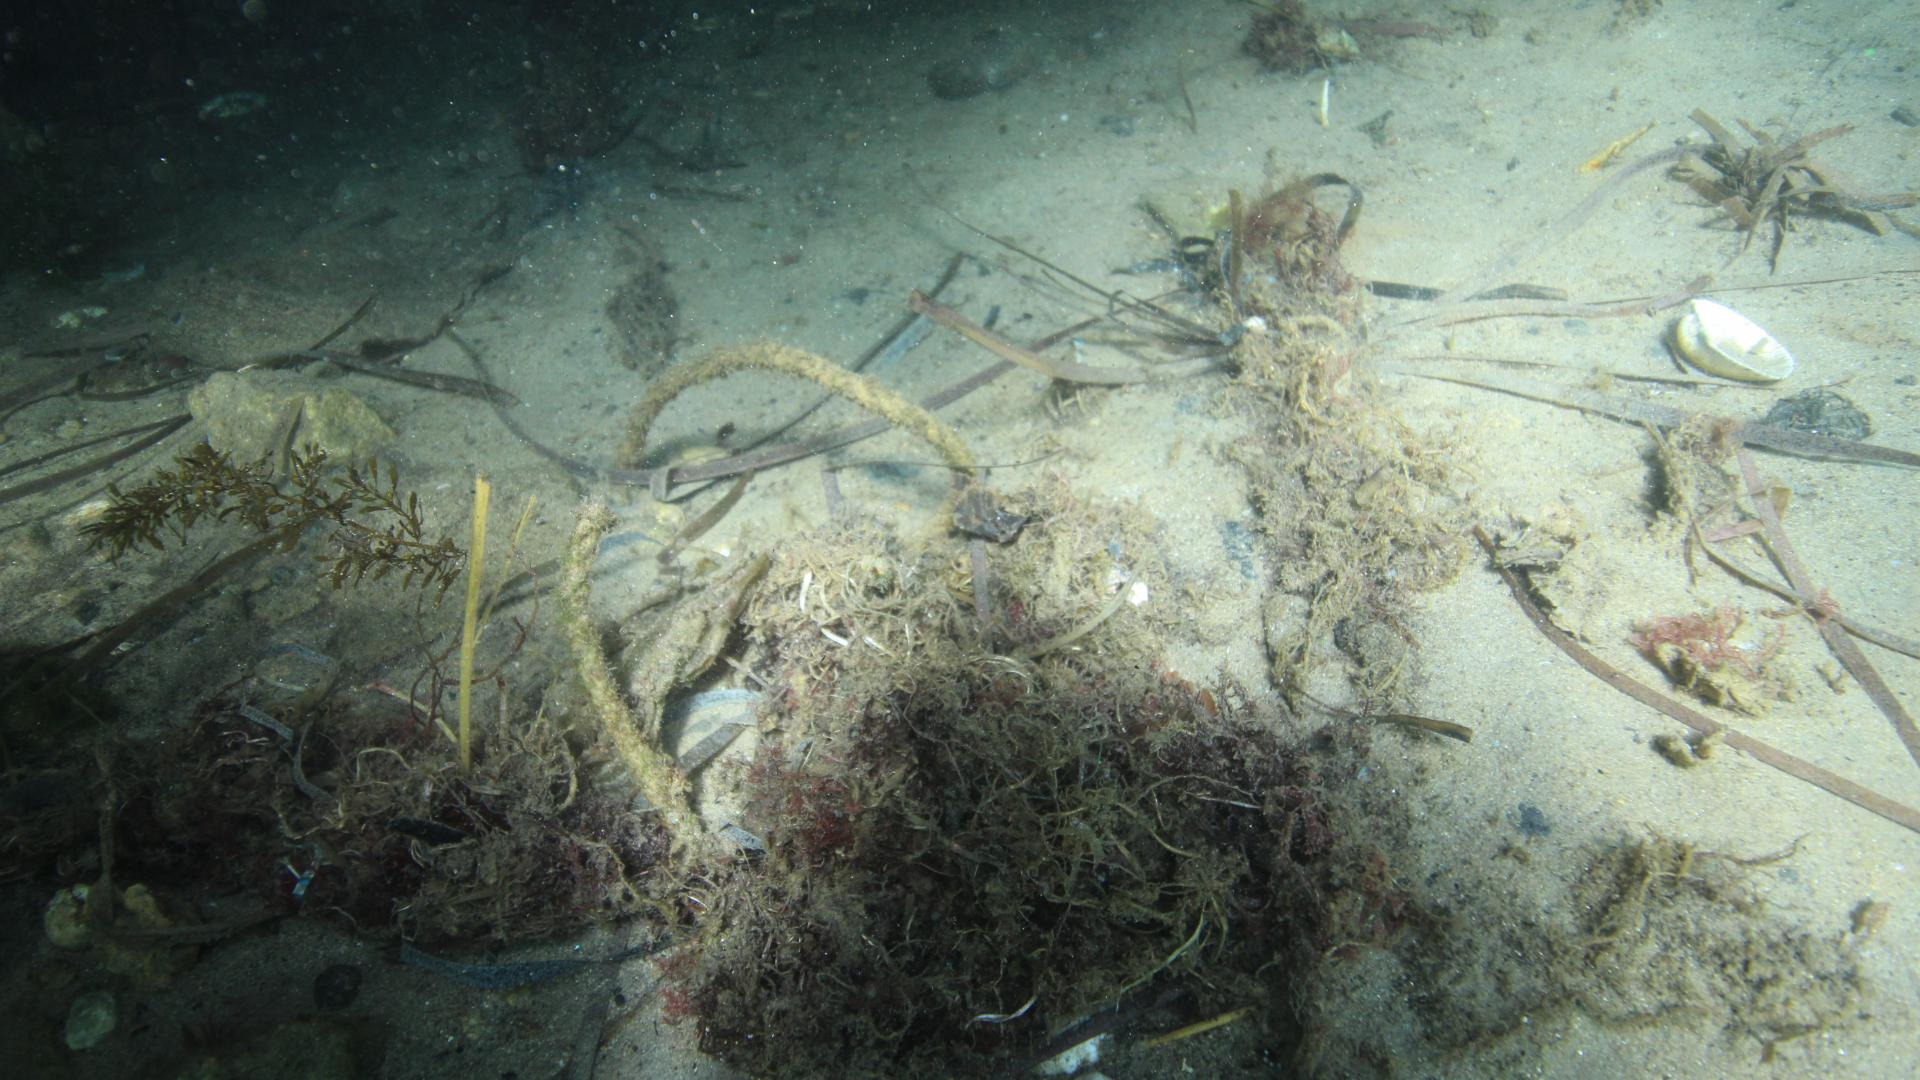rope: (555, 335, 986, 845)
